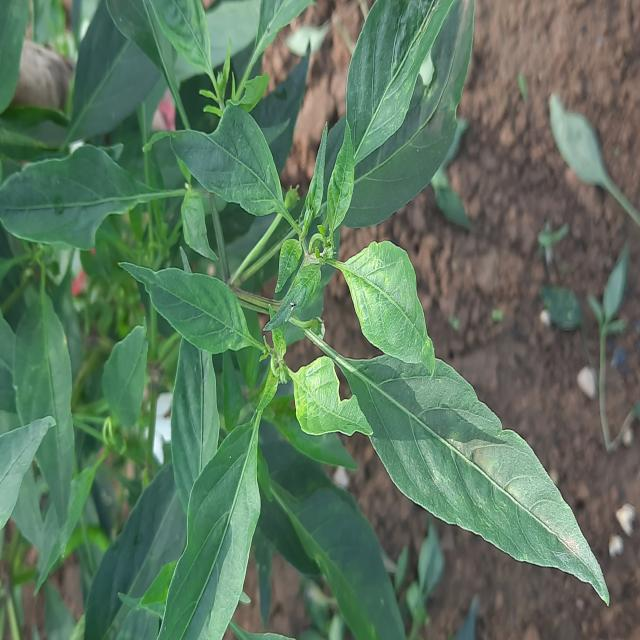sehat: (336, 348, 616, 612), (157, 395, 266, 640)
